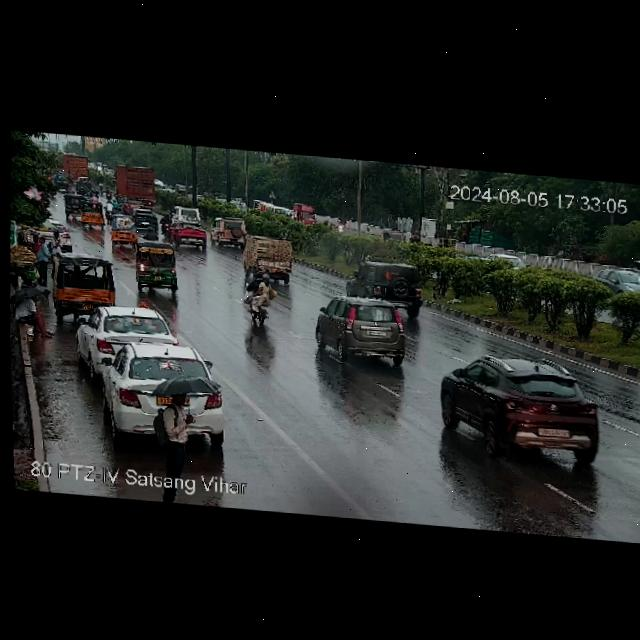car: (434, 357, 604, 465), (94, 339, 226, 448), (316, 289, 406, 367), (79, 303, 176, 367), (51, 255, 117, 310), (345, 261, 422, 300), (135, 243, 178, 291), (594, 264, 640, 297), (209, 216, 247, 244), (168, 224, 209, 248), (112, 214, 142, 242), (80, 199, 106, 228), (171, 203, 201, 226), (377, 229, 415, 245), (57, 220, 75, 250), (66, 191, 86, 215), (136, 208, 158, 229), (120, 195, 142, 214), (75, 180, 93, 191)
motorcycle: (239, 276, 274, 325), (104, 198, 124, 216), (160, 212, 172, 238), (85, 188, 99, 199), (104, 186, 112, 200), (98, 180, 106, 192), (336, 219, 344, 231)
person: (153, 386, 203, 472), (14, 288, 53, 335), (33, 234, 56, 277), (51, 232, 62, 252)
truck: (242, 236, 300, 278), (114, 164, 157, 201), (61, 152, 92, 175), (292, 202, 316, 225)
